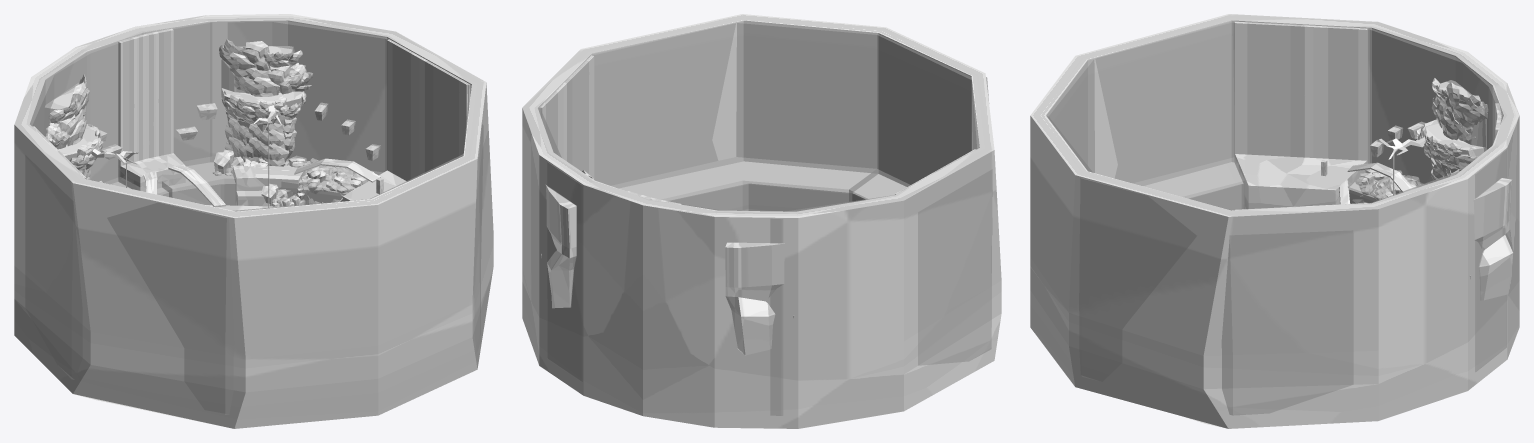
The model's file is LevelDesign_new_01.fbx.
3 views of the same model, side by side, from view 1: azimuth 30°, elevation 25°; view 2: azimuth 150°, elevation 25°; view 3: azimuth 270°, elevation 25° (orthographic).
Visible parts, largest first — view 1: LevelDesignNew_01_0012:LevelDesignNew_01_0012:LevelDesignNew (×4); view 2: LevelDesignNew_01_0012:LevelDesignNew_01_0012:LevelDesignNew (×3); view 3: LevelDesignNew_01_0012:LevelDesignNew_01_0012:LevelDesignNew (×4).
Boxes of the visible parts, bbox=[...] form: LevelDesignNew_01_0012:LevelDesignNew_01_0012:LevelDesignNew (×4): bbox=[14, 14, 493, 428]; LevelDesignNew_01_0012:LevelDesignNew_01_0012:LevelDesignNew (×3): bbox=[522, 14, 1001, 428]; LevelDesignNew_01_0012:LevelDesignNew_01_0012:LevelDesignNew (×4): bbox=[1030, 14, 1519, 428].
Bounding box in the file's own units: 74.47 × 37.58 × 75.84.
